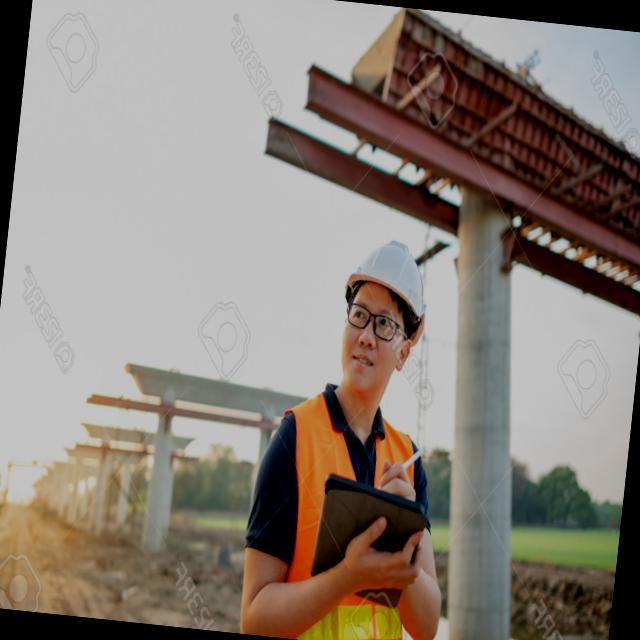helmet: (328, 216, 454, 320)
no-goggles: (340, 295, 414, 350)
vest: (243, 375, 448, 640)
